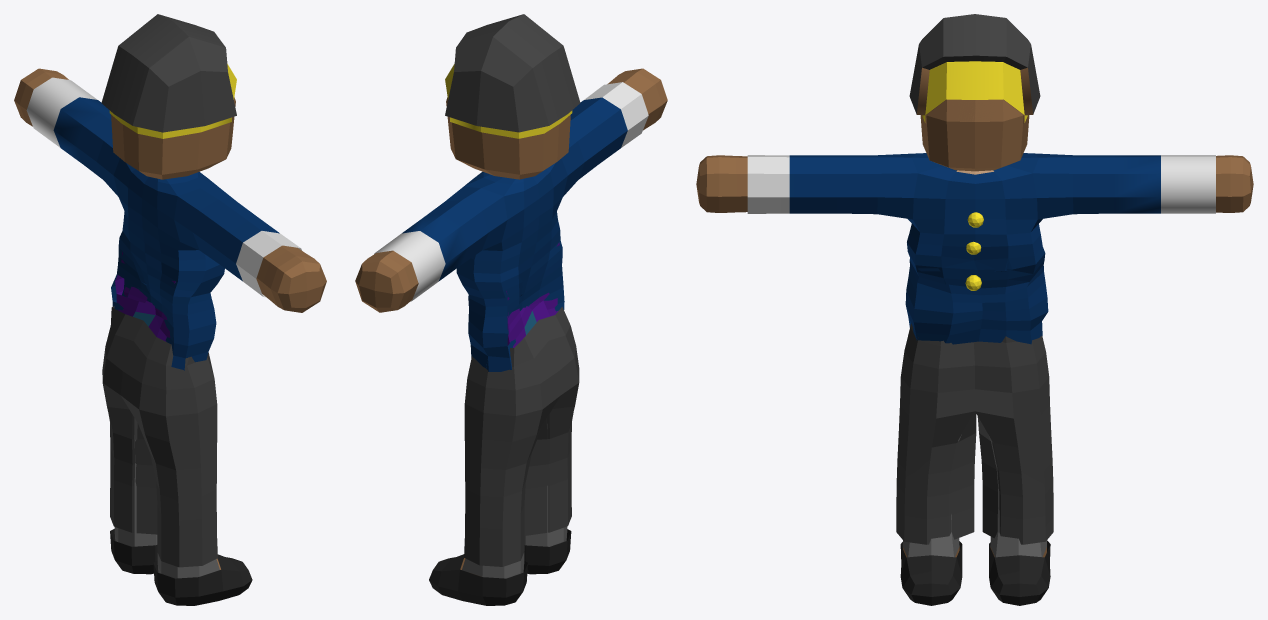
Rendered from playerCharacterUnrigged.fbx.
3 views of the same model, side by side, from view 1: azimuth 30°, elevation 25°; view 2: azimuth 150°, elevation 25°; view 3: azimuth 270°, elevation 25° (orthographic).
Visible parts, largest first — view 1: Character.001; view 2: Character.001; view 3: Character.001.
Part boxes in pixels (left/top/right/bottom): Character.001: left=14, top=14, right=326, bottom=605; Character.001: left=355, top=14, right=667, bottom=605; Character.001: left=696, top=14, right=1253, bottom=605.
Bounding box in the file's own units: 31.29 × 151 × 133.
Materials: 1 (1 with a texture image).
